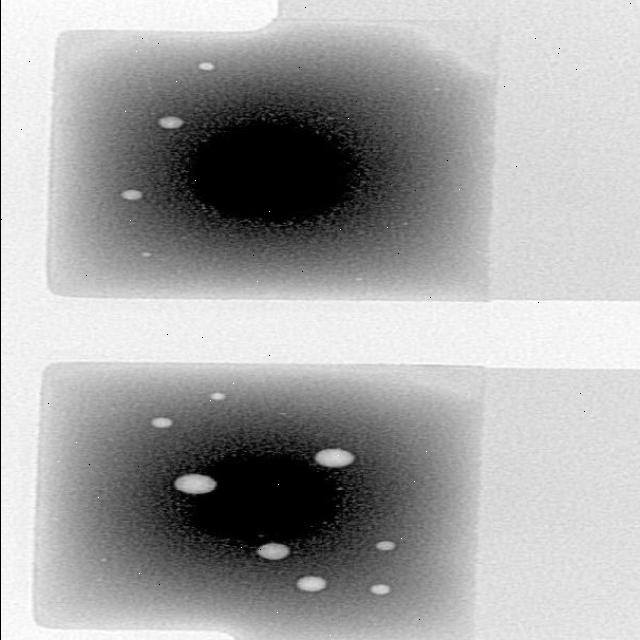Chip: (0, 0, 640, 640), (37, 362, 481, 640), (36, 362, 479, 640), (50, 24, 493, 299), (52, 30, 491, 298), (23, 289, 640, 370), (473, 0, 640, 299), (465, 371, 640, 640), (185, 121, 356, 224), (172, 454, 337, 546), (281, 0, 359, 22)
void: (172, 474, 217, 493), (314, 449, 354, 467), (256, 543, 289, 560), (296, 576, 326, 591), (157, 116, 183, 128), (150, 416, 172, 428), (120, 189, 142, 200), (370, 584, 390, 594), (375, 541, 395, 550), (197, 62, 212, 70), (210, 392, 224, 399), (140, 252, 151, 257)
